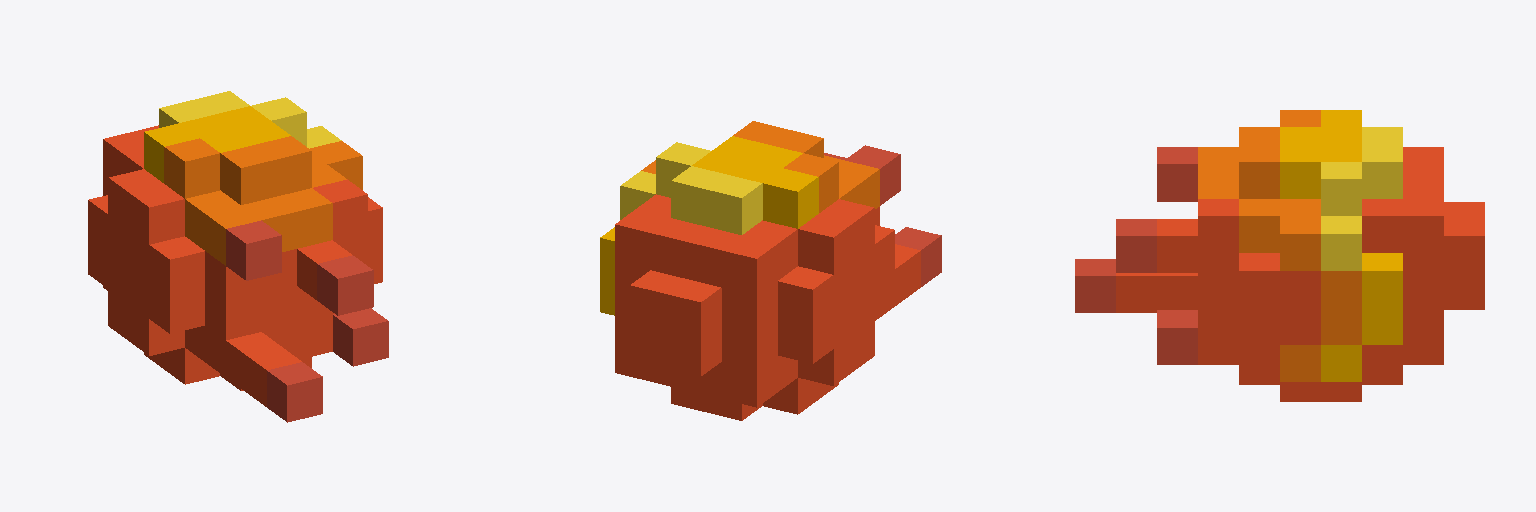
3 renders of one model, left to right at view 1: azimuth 30°, elevation 25°; view 2: azimuth 150°, elevation 25°; view 3: azimuth 270°, elevation 25°, orthographic.
Visible parts, largest first — view 1: object 1; view 2: object 1; view 3: object 1.
Part boxes in pixels (bbox=[...]): object 1: bbox=[88, 91, 388, 422]; object 1: bbox=[600, 121, 941, 420]; object 1: bbox=[1075, 110, 1484, 401].
Size of the model in its own units: 0.6 by 0.6 by 1.
1 materials, 1 textured.